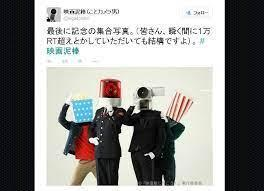no more kid: (130, 83, 167, 113), (46, 6, 60, 20)
